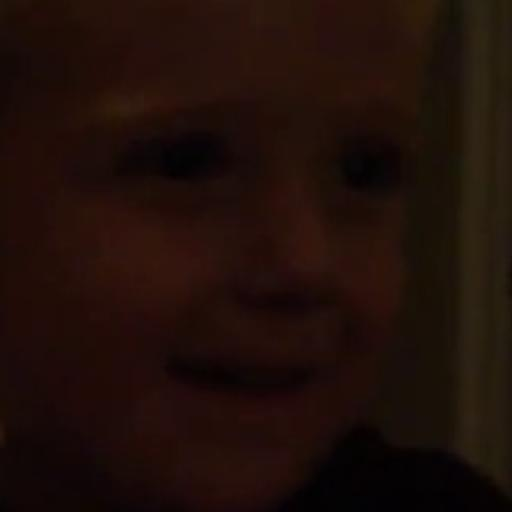Autism: (0, 9, 439, 512)
